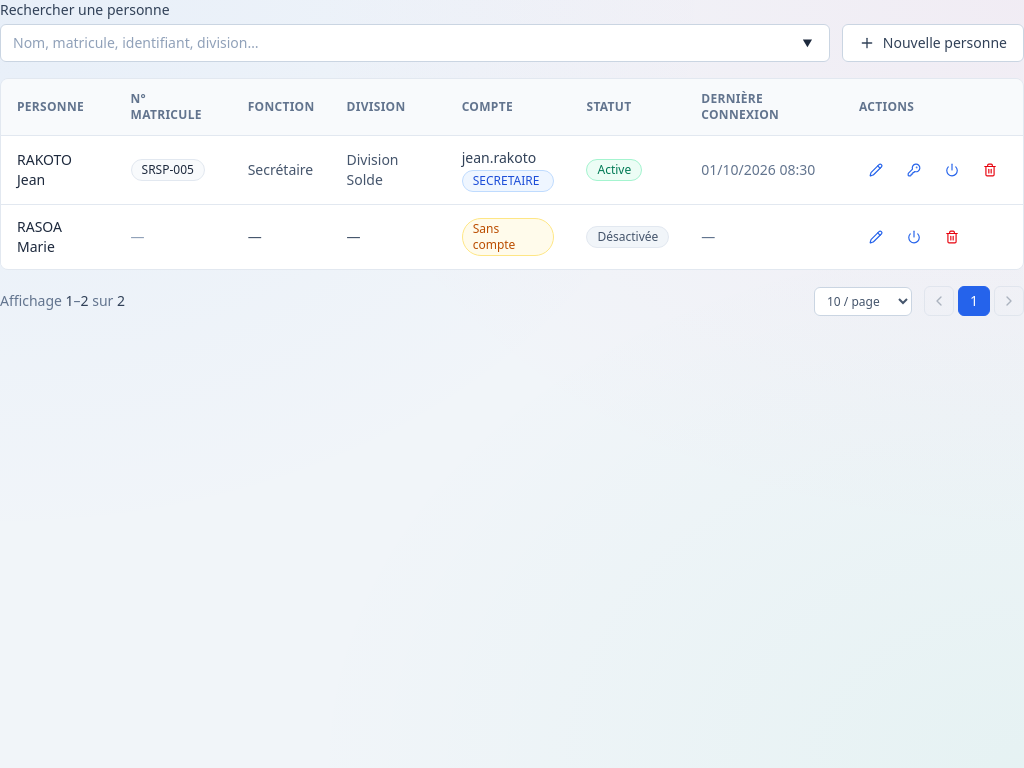
Test: Personnel — le formulaire › retire les champs de connexion quand la case est décochée
Expected: the text "RAKOTO Jean" is shown, [17,150,72,189]
Click the button "Nouvelle personne" at (933, 43), box [842,24,1023,62]
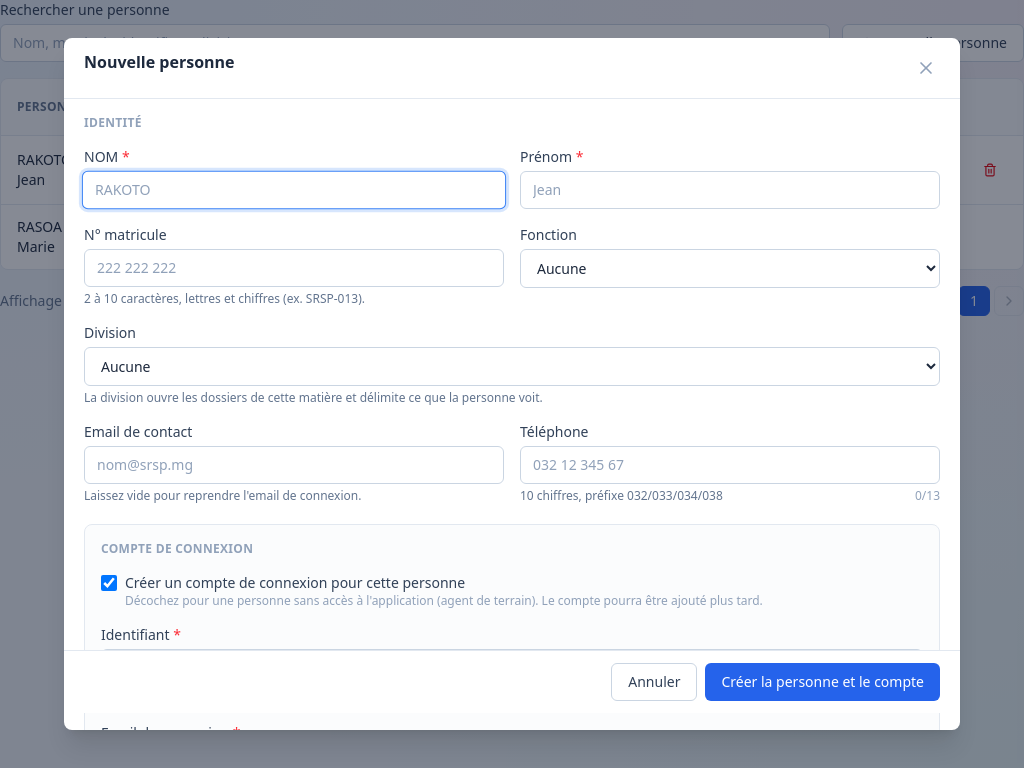
Click the checkbox labelled "Créer un compte de connexion" at (109, 583), box [101,575,117,591]
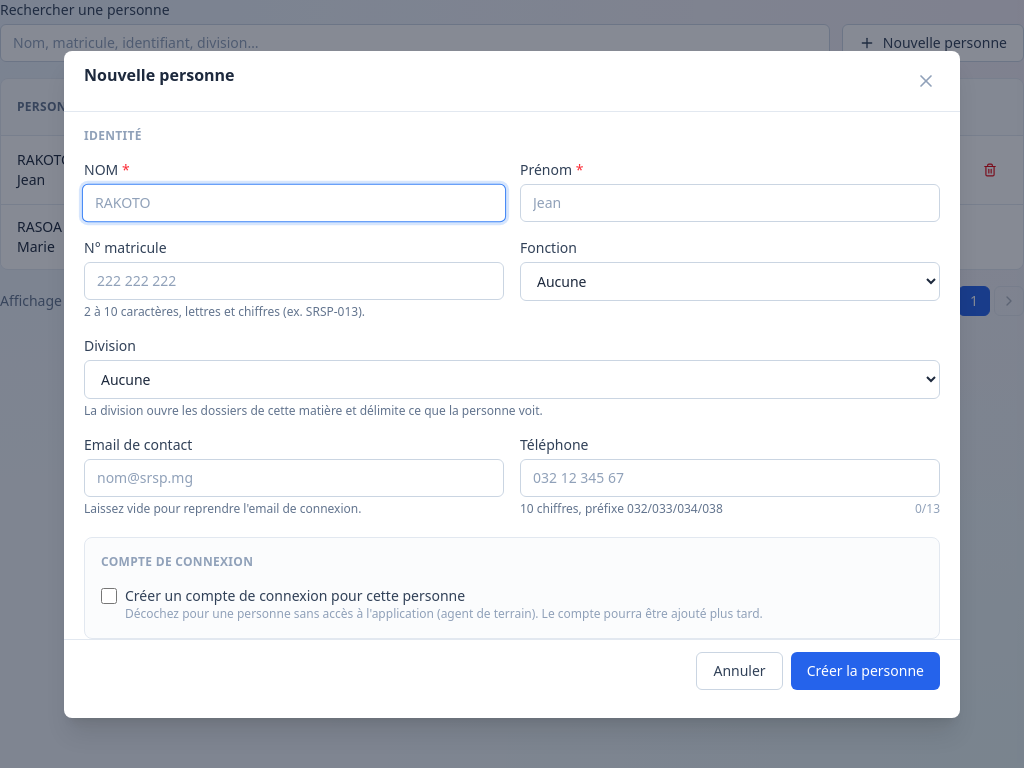
Expected: the button "Créer la personne" is shown, [791,652,940,690]
